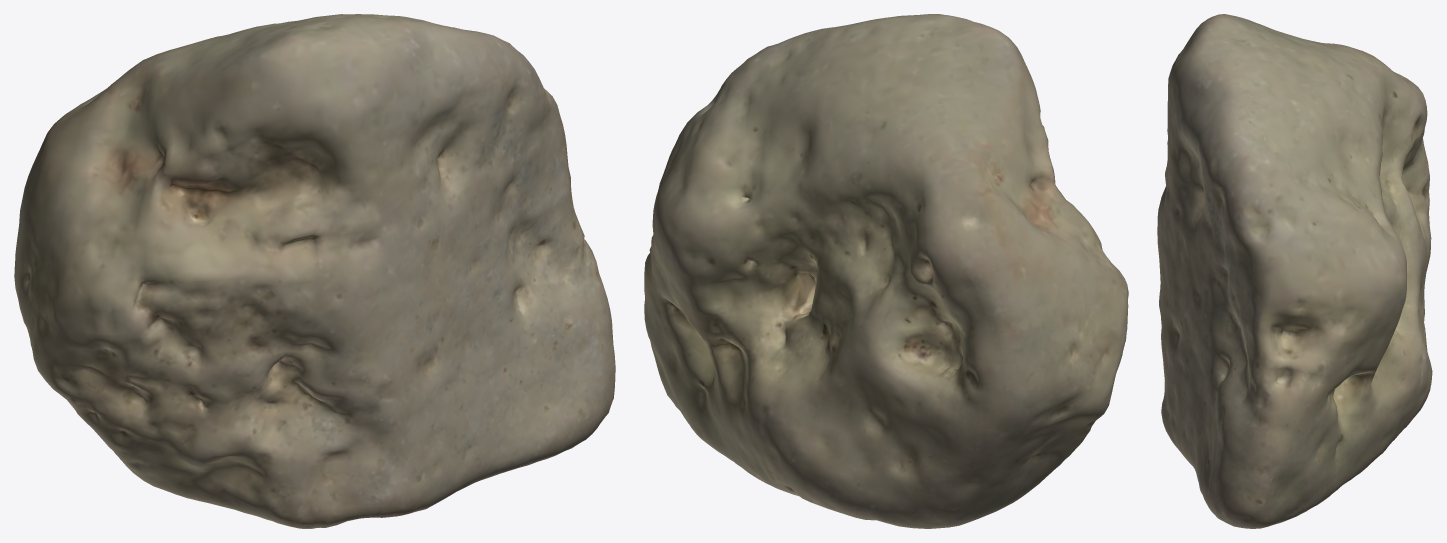
File: stone_opt.glb
3 views of the same model, side by side, from view 1: azimuth 30°, elevation 25°; view 2: azimuth 150°, elevation 25°; view 3: azimuth 270°, elevation 25° (orthographic). The views are drawn at different scales.
Parts seen in each view (by area): view 1: Stone Scan; view 2: Stone Scan; view 3: Stone Scan.
Boxes of the visible parts, box(x1,y1,x2,y2) form: Stone Scan: box(14, 14, 615, 528); Stone Scan: box(644, 14, 1128, 528); Stone Scan: box(1157, 14, 1432, 528).
Size of the model in its own units: 0.3004 by 0.2591 by 0.1629.
1 material, 1 textured.
